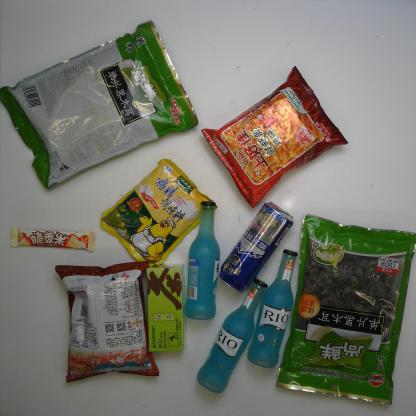Alcohol: (194, 276, 272, 398), (218, 196, 295, 295), (244, 247, 304, 370), (182, 194, 226, 322)
Chocolate: (7, 222, 98, 254)
Dried Food: (0, 18, 200, 194), (274, 212, 416, 409)
Instant Drink: (140, 260, 190, 356)
Puffed Food: (199, 62, 351, 210), (54, 258, 164, 385)
Seasoner: (98, 155, 216, 266)
